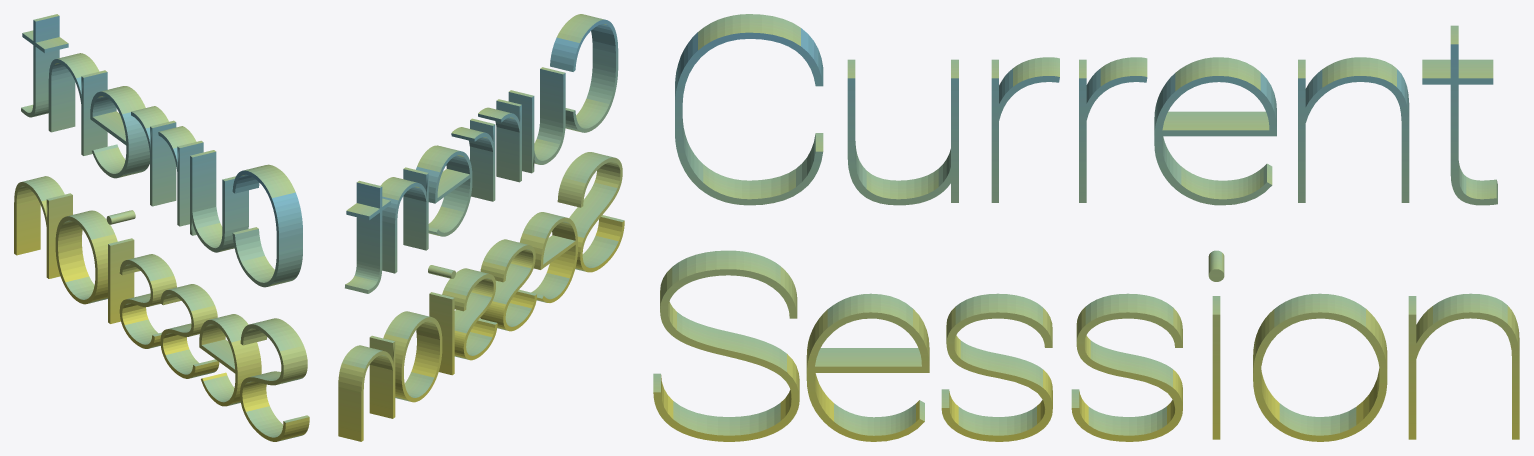
File: current_text_centered.obj
The picture shows the model from 3 angles, left to right: view 1: azimuth 30°, elevation 25°; view 2: azimuth 150°, elevation 25°; view 3: azimuth 270°, elevation 25°; orthographic projection. The views are drawn at different scales.
Parts seen in each view (by area): view 1: 007_3D_Text_3_-_C, 000_3D_Text_3_-_S, 008_3D_Text_3_-_u, 012_3D_Text_3_-_n, 005_3D_Text_3_-_o, 011_3D_Text_3_-_e, 006_3D_Text_3_-_n, 001_3D_Text_3_-_e, 002_3D_Text_3_-_s, 003_3D_Text_3_-_s, 010_3D_Text_3_-_r, 013_3D_Text_3_-_t (+2 smaller); view 2: 000_3D_Text_3_-_S, 007_3D_Text_3_-_C, 006_3D_Text_3_-_n, 002_3D_Text_3_-_s, 012_3D_Text_3_-_n, 008_3D_Text_3_-_u, 005_3D_Text_3_-_o, 001_3D_Text_3_-_e, 003_3D_Text_3_-_s, 011_3D_Text_3_-_e, 013_3D_Text_3_-_t, 009_3D_Text_3_-_r (+2 smaller); view 3: 000_3D_Text_3_-_S, 011_3D_Text_3_-_e, 001_3D_Text_3_-_e, 007_3D_Text_3_-_C, 002_3D_Text_3_-_s, 003_3D_Text_3_-_s, 005_3D_Text_3_-_o, 006_3D_Text_3_-_n, 008_3D_Text_3_-_u, 012_3D_Text_3_-_n, 013_3D_Text_3_-_t, 009_3D_Text_3_-_r (+2 smaller).
Part boxes in pixels (left/top/right/bottom): 007_3D_Text_3_-_C: left=232, top=164, right=302, bottom=287; 000_3D_Text_3_-_S: left=240, top=318, right=309, bottom=441; 008_3D_Text_3_-_u: left=190, top=150, right=248, bottom=252; 012_3D_Text_3_-_n: left=48, top=53, right=107, bottom=155; 005_3D_Text_3_-_o: left=55, top=210, right=117, bottom=304; 011_3D_Text_3_-_e: left=90, top=86, right=149, bottom=178; 006_3D_Text_3_-_n: left=14, top=176, right=72, bottom=278; 001_3D_Text_3_-_e: left=199, top=314, right=261, bottom=406; 002_3D_Text_3_-_s: left=160, top=284, right=219, bottom=378; 003_3D_Text_3_-_s: left=119, top=254, right=176, bottom=348; 010_3D_Text_3_-_r: left=131, top=106, right=176, bottom=206; 013_3D_Text_3_-_t: left=21, top=14, right=68, bottom=117; 000_3D_Text_3_-_S: left=557, top=152, right=624, bottom=272; 007_3D_Text_3_-_C: left=550, top=14, right=618, bottom=132; 006_3D_Text_3_-_n: left=338, top=335, right=395, bottom=441; 002_3D_Text_3_-_s: left=480, top=239, right=536, bottom=331; 012_3D_Text_3_-_n: left=380, top=167, right=428, bottom=273; 008_3D_Text_3_-_u: left=508, top=67, right=565, bottom=173; 005_3D_Text_3_-_o: left=383, top=311, right=442, bottom=402; 001_3D_Text_3_-_e: left=519, top=212, right=577, bottom=302; 003_3D_Text_3_-_s: left=442, top=268, right=497, bottom=360; 011_3D_Text_3_-_e: left=416, top=145, right=472, bottom=236; 013_3D_Text_3_-_t: left=345, top=180, right=390, bottom=293; 009_3D_Text_3_-_r: left=478, top=99, right=521, bottom=182; 000_3D_Text_3_-_S: left=653, top=250, right=799, bottom=441; 011_3D_Text_3_-_e: left=1154, top=57, right=1276, bottom=205; 001_3D_Text_3_-_e: left=806, top=293, right=929, bottom=441; 007_3D_Text_3_-_C: left=675, top=14, right=823, bottom=205; 002_3D_Text_3_-_s: left=941, top=293, right=1052, bottom=441; 003_3D_Text_3_-_s: left=1071, top=293, right=1182, bottom=441; 005_3D_Text_3_-_o: left=1253, top=293, right=1387, bottom=441; 006_3D_Text_3_-_n: left=1408, top=293, right=1519, bottom=439; 008_3D_Text_3_-_u: left=847, top=59, right=958, bottom=205; 012_3D_Text_3_-_n: left=1298, top=57, right=1409, bottom=202; 013_3D_Text_3_-_t: left=1422, top=25, right=1497, bottom=205; 009_3D_Text_3_-_r: left=991, top=57, right=1059, bottom=202.
Bounding box in the file's own units: 0.339 × 3.47 × 6.65.
Materials: 1 (1 with a texture image).
